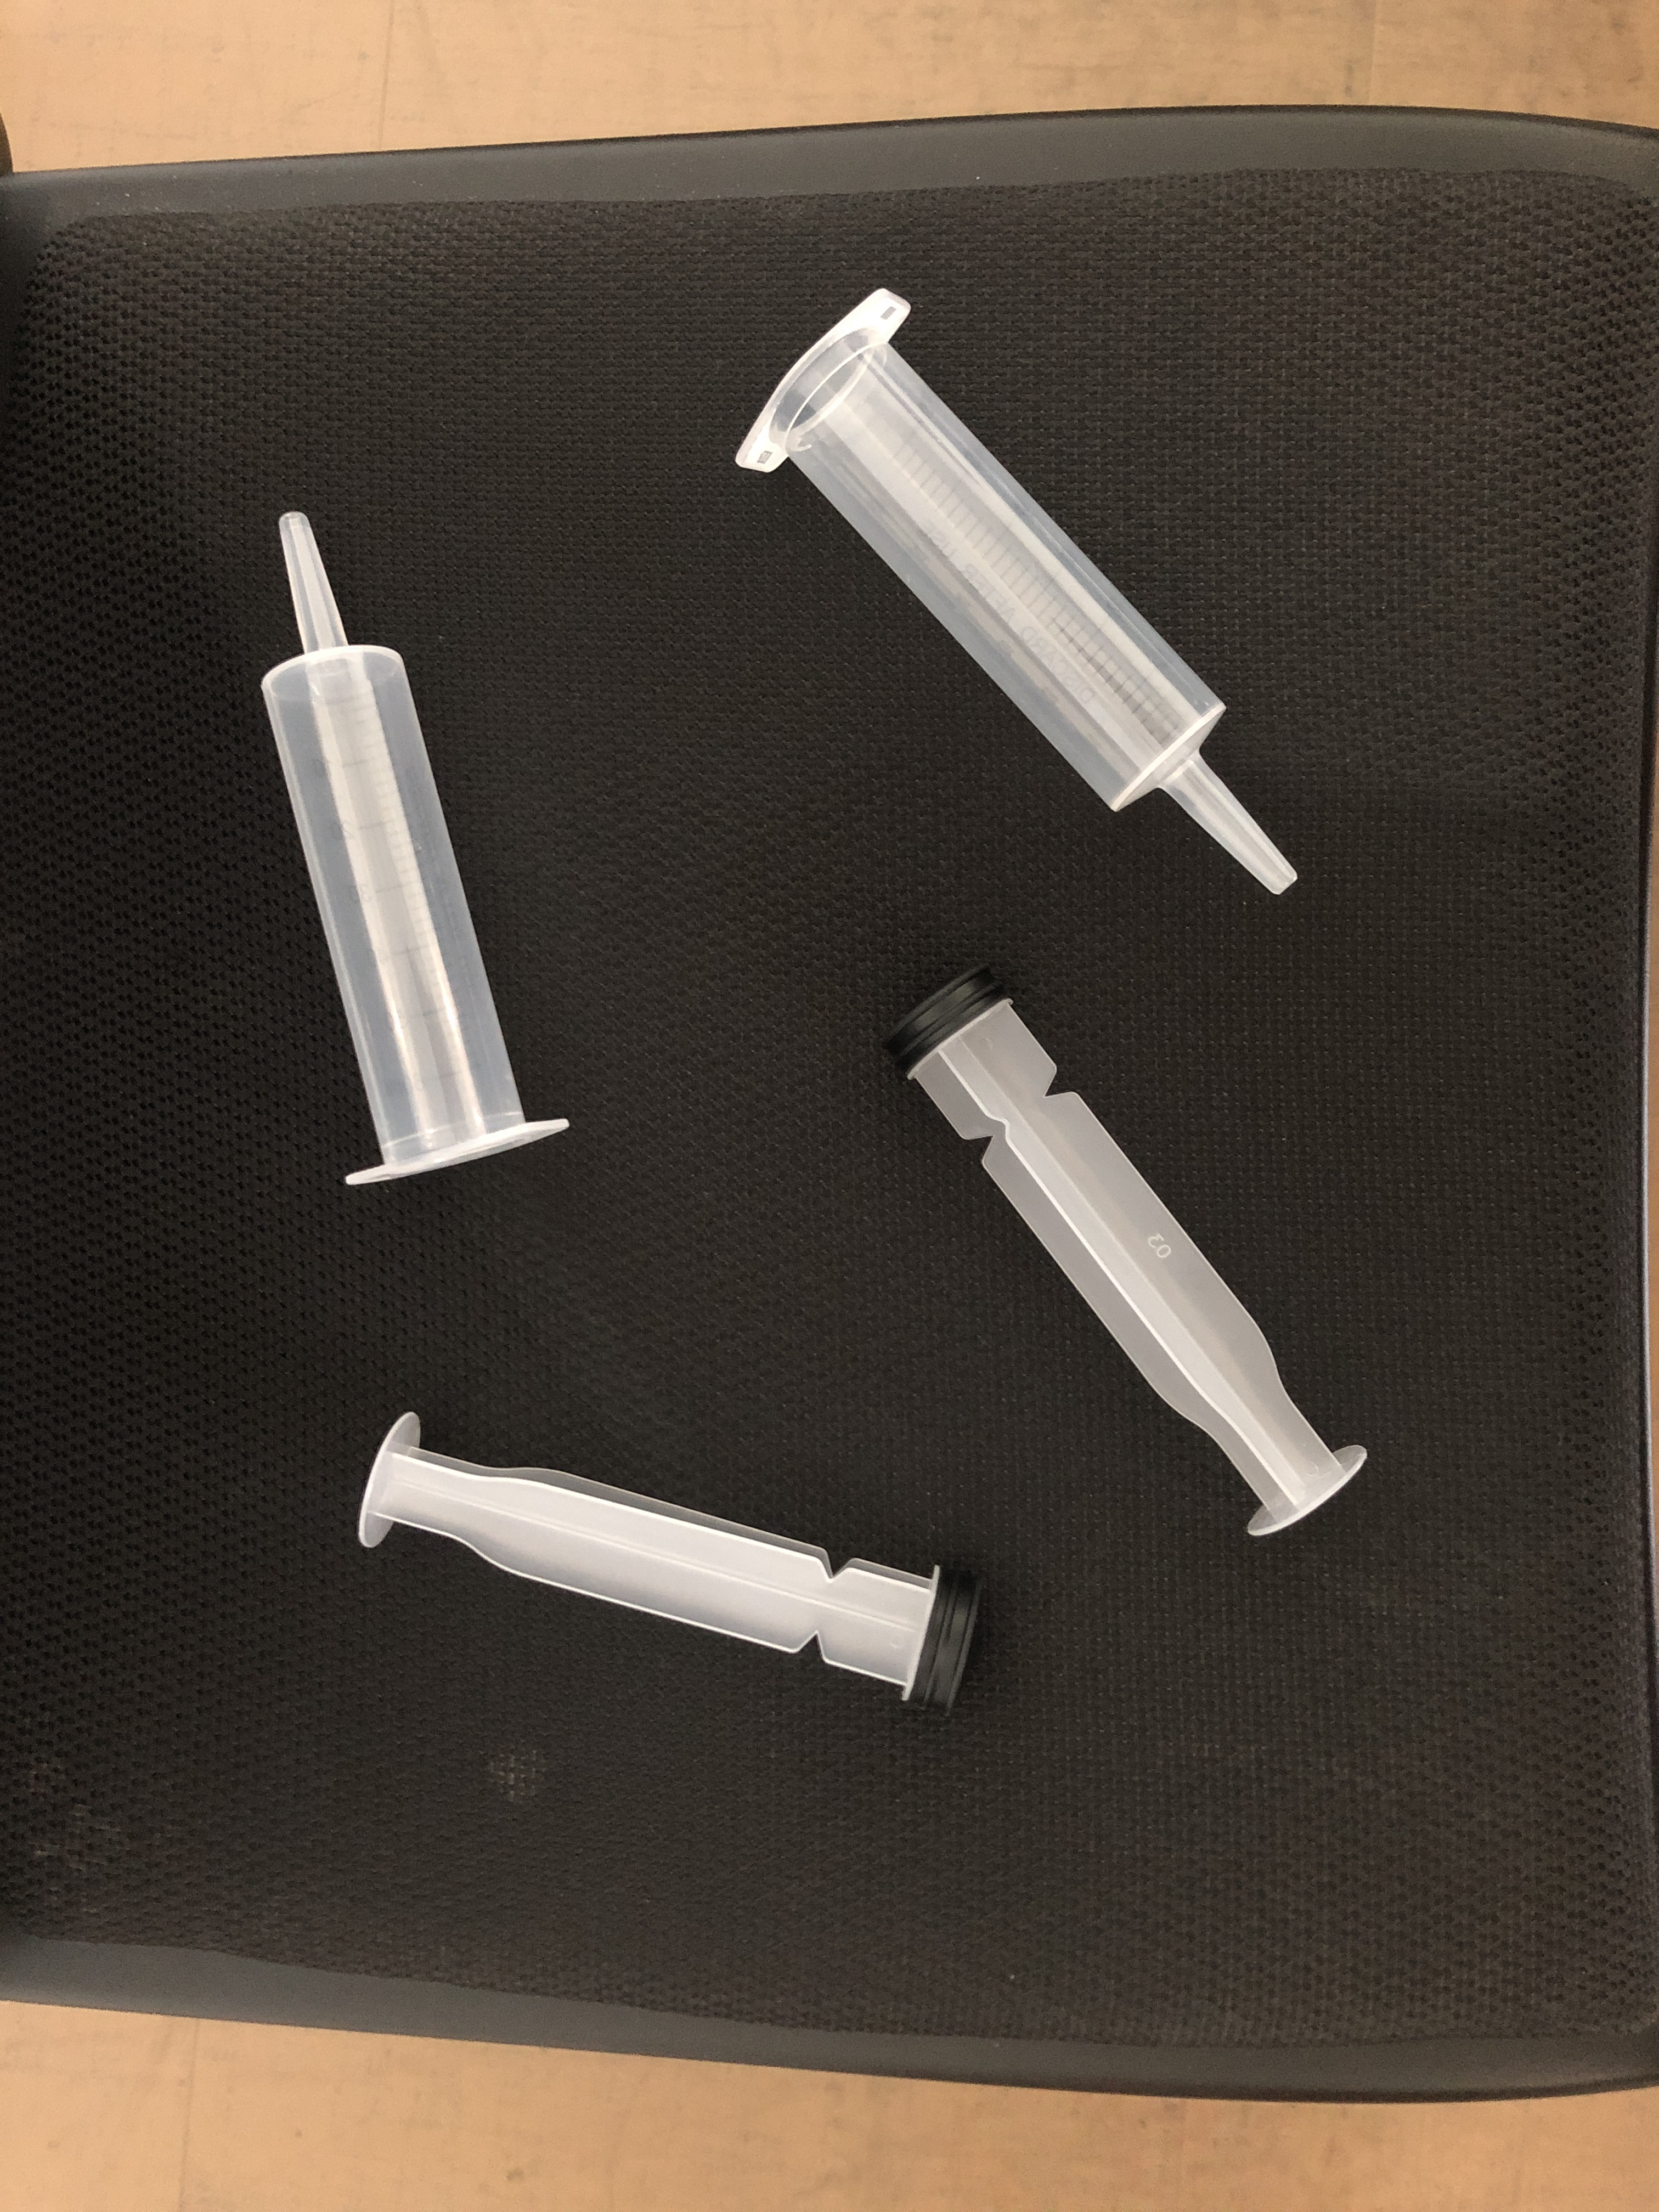plunger: (882, 961, 1378, 1531), (349, 1400, 993, 1743)
syringe: (739, 272, 1300, 897), (239, 498, 579, 1190)
